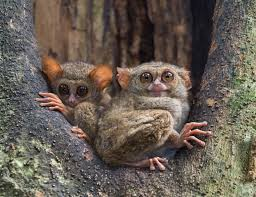tarsier: (108, 58, 201, 173), (34, 52, 113, 145)
